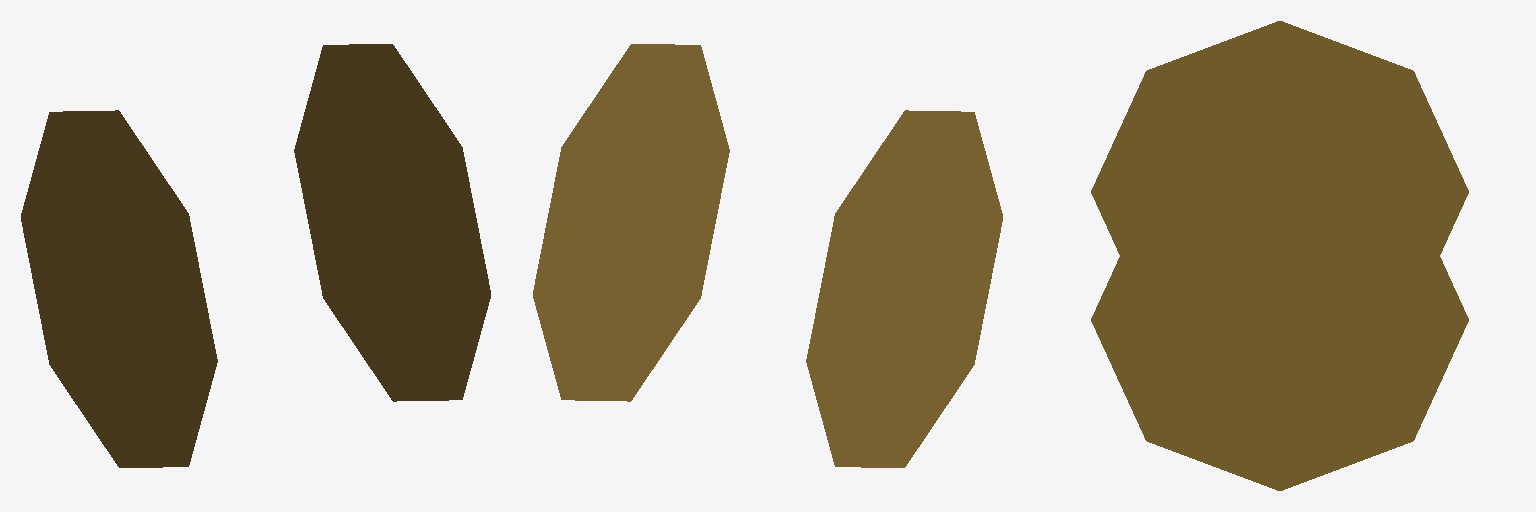
robot.urdf — hay_bale:
<?xml version="1.0" encoding="utf-8"?>
<!-- Generated by tools/generate_assets.py -->
<robot name="hay_bale">
  <link name="base_link">
    <inertial>
      <mass value="0" />
      <inertia ixx="0" ixy="0" ixz="0" iyy="0" iyz="0" izz="0" />
    </inertial>
    <visual name="part_0">
      <geometry><mesh filename="meshes/hay_bale_v0.obj" /></geometry>
      <material name="hay_bale_0"><color rgba="0.79 0.67 0.36 1" /></material>
    </visual>
    <visual name="part_1">
      <geometry><mesh filename="meshes/hay_bale_v1.obj" /></geometry>
      <material name="hay_bale_1"><color rgba="0.68 0.55 0.27 1" /></material>
    </visual>
    <collision name="hull_0">
      <geometry><mesh filename="meshes/hay_bale_c0.obj" /></geometry>
    </collision>
  </link>
</robot>

--- Render facts (derived) ---
The picture shows the robot from 3 angles, left to right: view 1: azimuth 30°, elevation 25°; view 2: azimuth 150°, elevation 25°; view 3: azimuth 270°, elevation 25°; orthographic projection.
Model hay_bale with 1 links and 0 joints (none), rooted at base_link, posed every joint at zero.
Links seen in each view (by area): view 1: base_link; view 2: base_link; view 3: base_link.
Link boxes in pixels (x1,y1,x2,y2): base_link: (21,44,490,467); base_link: (533,44,1002,467); base_link: (1091,21,1468,490).
Bounding box of the posed robot: 1.2 × 1.5 × 1.5 m (x, y, z).
Meshes: 2 distinct files referenced, 1 mesh visuals loaded (1 OBJ); not drawn: 1 (reference not matched to a file when rendering).
